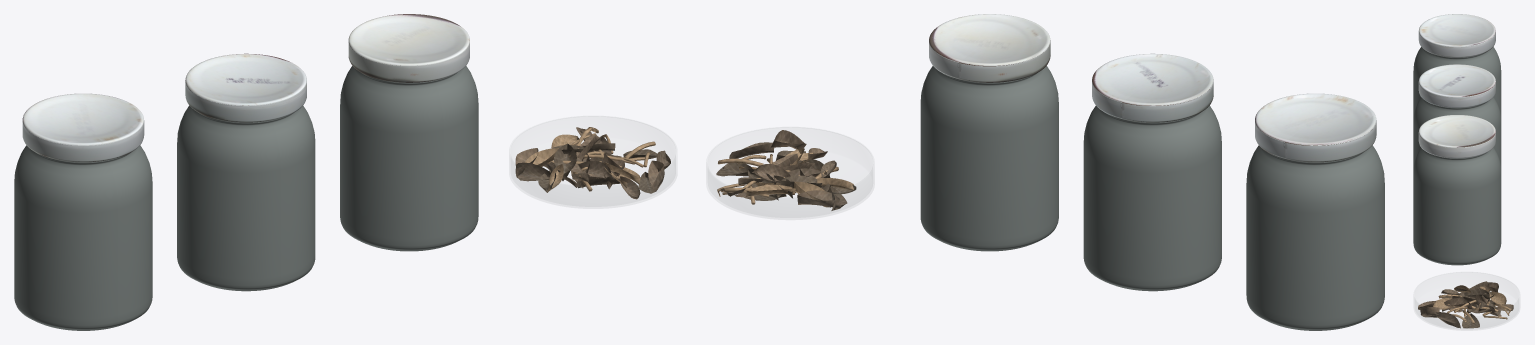
File: escuros_e_folhas_22_web.glb
3 renders of one model, left to right at view 1: azimuth 30°, elevation 25°; view 2: azimuth 150°, elevation 25°; view 3: azimuth 270°, elevation 25°, orthographic. The views are drawn at different scales.
Parts seen in each view (by area): view 1: Vidro_Pote_Solo_Escuro_3, Vidro_Pote_Solo_Escuro_2, Vidro_Pote_Solo_Escuro_1, Tampa_Pote_Solo_Escuro_1, Tampa_Pote_Solo_Escuro_2, Tampa_Pote_Solo_Escuro_3, Folhas_Secas, Placa_de_Petri_Folhas_Secas; view 2: Vidro_Pote_Solo_Escuro_2, Vidro_Pote_Solo_Escuro_3, Vidro_Pote_Solo_Escuro_1, Tampa_Pote_Solo_Escuro_1, Tampa_Pote_Solo_Escuro_2, Tampa_Pote_Solo_Escuro_3, Folhas_Secas, Placa_de_Petri_Folhas_Secas; view 3: Vidro_Pote_Solo_Escuro_3, Tampa_Pote_Solo_Escuro_3, Tampa_Pote_Solo_Escuro_1, Tampa_Pote_Solo_Escuro_2, Folhas_Secas, Vidro_Pote_Solo_Escuro_1, Vidro_Pote_Solo_Escuro_2, Placa_de_Petri_Folhas_Secas.
Boxes of the visible parts, x1,y1,x2,y2 form: Vidro_Pote_Solo_Escuro_3: [340, 66, 478, 251]; Vidro_Pote_Solo_Escuro_2: [177, 105, 315, 291]; Vidro_Pote_Solo_Escuro_1: [14, 145, 152, 330]; Tampa_Pote_Solo_Escuro_1: [22, 93, 144, 162]; Tampa_Pote_Solo_Escuro_2: [185, 53, 306, 122]; Tampa_Pote_Solo_Escuro_3: [348, 14, 469, 82]; Folhas_Secas: [515, 127, 670, 199]; Placa_de_Petri_Folhas_Secas: [511, 116, 675, 206]; Vidro_Pote_Solo_Escuro_2: [1083, 105, 1221, 291]; Vidro_Pote_Solo_Escuro_3: [920, 66, 1058, 251]; Vidro_Pote_Solo_Escuro_1: [1246, 145, 1384, 330]; Tampa_Pote_Solo_Escuro_1: [1255, 93, 1376, 162]; Tampa_Pote_Solo_Escuro_2: [1092, 53, 1213, 122]; Tampa_Pote_Solo_Escuro_3: [929, 14, 1050, 82]; Folhas_Secas: [716, 130, 856, 210]; Placa_de_Petri_Folhas_Secas: [708, 127, 872, 217]; Vidro_Pote_Solo_Escuro_3: [1413, 148, 1501, 265]; Tampa_Pote_Solo_Escuro_3: [1418, 115, 1495, 158]; Tampa_Pote_Solo_Escuro_1: [1418, 14, 1495, 57]; Tampa_Pote_Solo_Escuro_2: [1418, 64, 1495, 107]; Folhas_Secas: [1418, 281, 1513, 328]; Vidro_Pote_Solo_Escuro_1: [1413, 47, 1501, 120]; Vidro_Pote_Solo_Escuro_2: [1413, 97, 1501, 171]; Placa_de_Petri_Folhas_Secas: [1415, 272, 1518, 329].
Bounding box in the file's own units: 0.4448 × 0.1223 × 0.1.
Materials: 9 (7 with a texture image).
